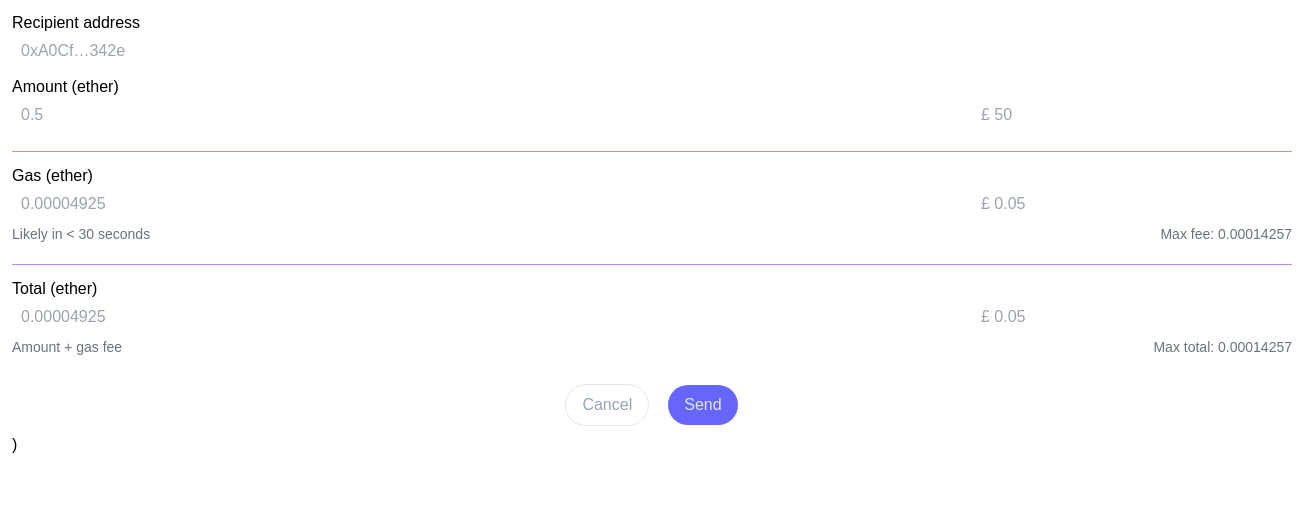
Scenario: SendTransactionForm › Recipient address field › displays error message when address format is invalid
Step 1. Type "0x94CCbba1FE2a9fe68F328E40832858aB8730613" into the field labelled "Recipient address" → point(652, 51), box [12, 35, 1292, 67]
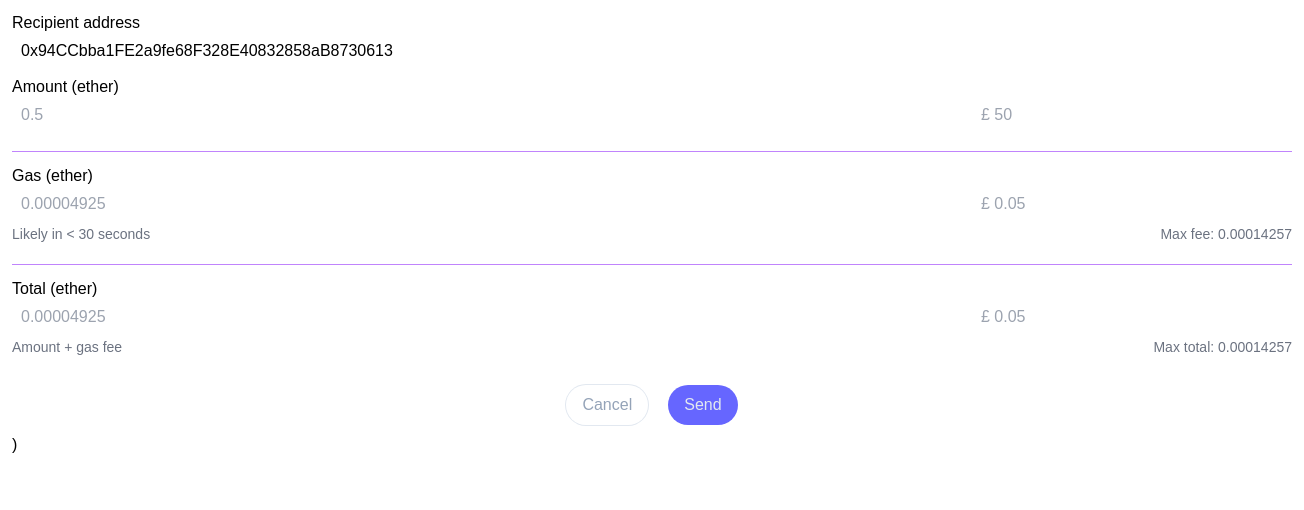
Step 2. Click the button "Send" → point(703, 405), box [668, 385, 738, 425]
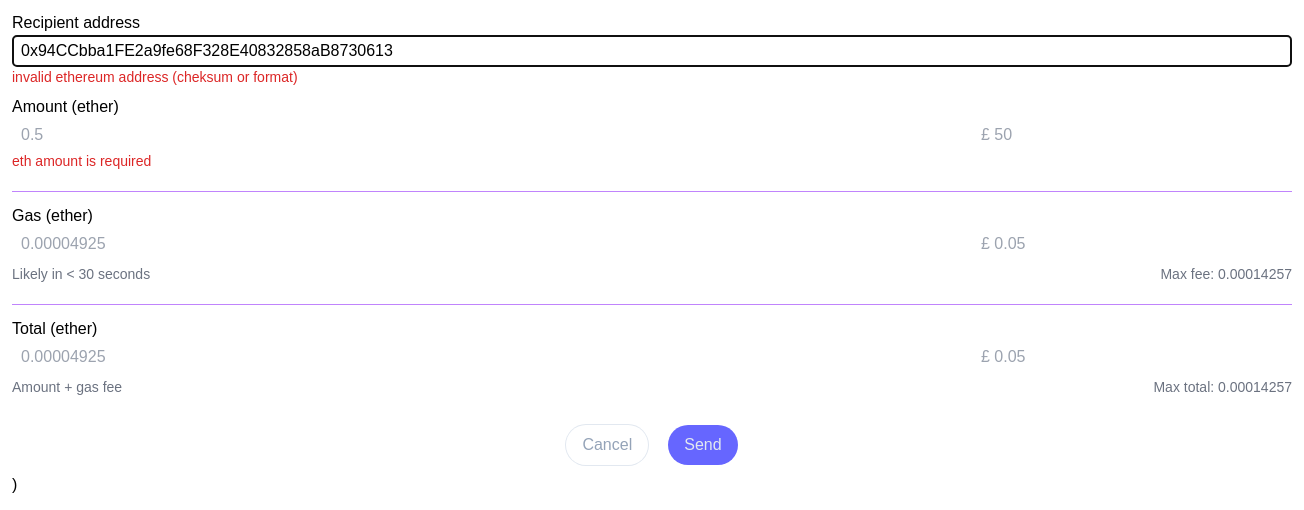
Now the text "invalid ethereum address (cheksum or format)" is shown, box [12, 69, 298, 85]
